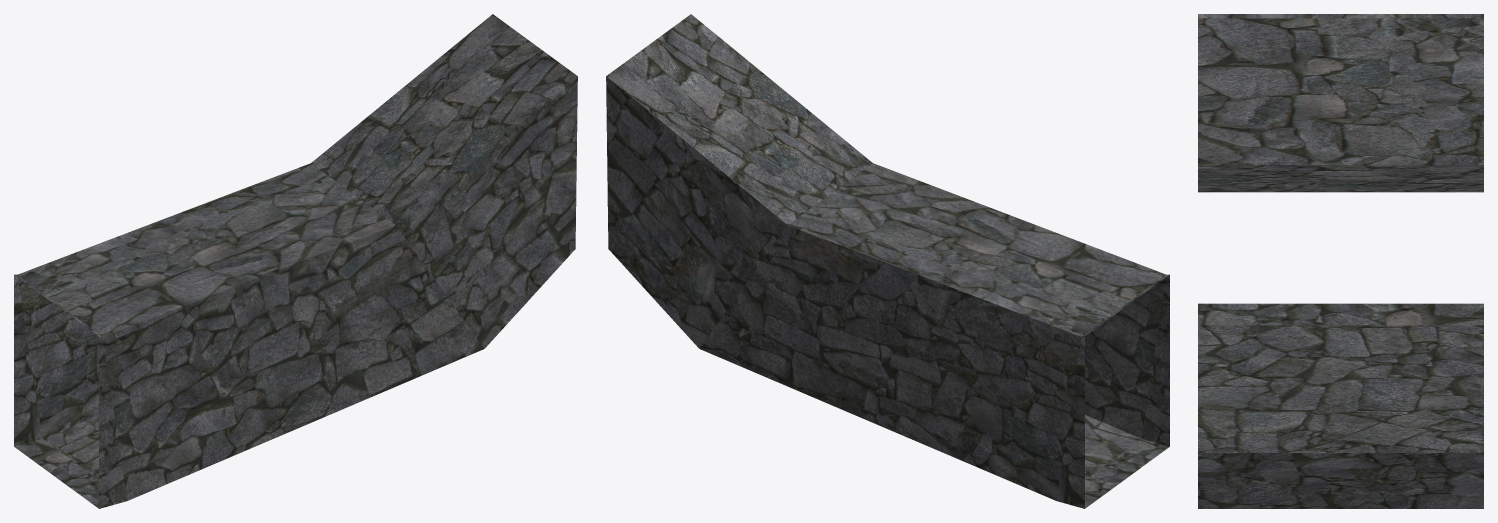
Rendered from Tunnel4.fbx.
3 renders of one model, left to right at view 1: azimuth 30°, elevation 25°; view 2: azimuth 150°, elevation 25°; view 3: azimuth 270°, elevation 25°, orthographic. The views are drawn at different scales.
Visible parts, largest first — view 1: Tunnel4; view 2: Tunnel4; view 3: Tunnel4.
Part boxes in pixels (x1,y1,x2,y2): Tunnel4: (14, 14, 577, 508); Tunnel4: (606, 14, 1169, 508); Tunnel4: (1198, 14, 1483, 508).
Bounding box in the file's own units: 7.06 × 4.45 × 2.17.
